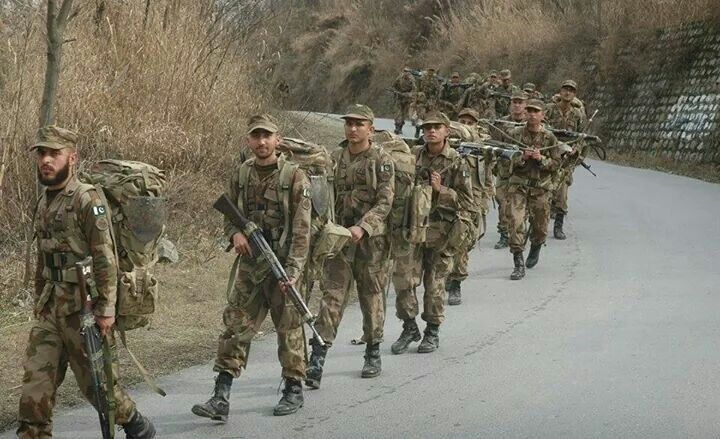uniform: (210, 141, 305, 382), (16, 185, 115, 411), (326, 128, 391, 363), (408, 132, 456, 351), (489, 106, 556, 260), (452, 111, 491, 295), (547, 81, 587, 227), (384, 60, 426, 131), (421, 59, 461, 121), (494, 65, 519, 119), (475, 73, 498, 115)
